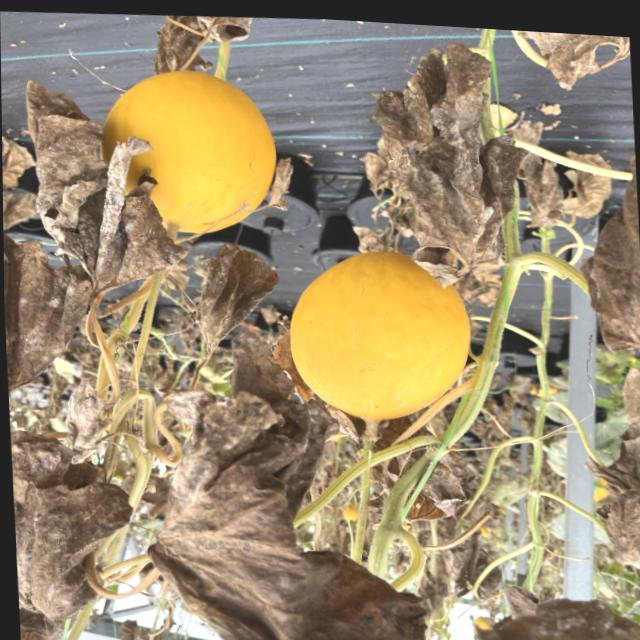bacterial wilt: (166, 472, 420, 640), (147, 376, 335, 598), (10, 435, 130, 618), (365, 51, 499, 189), (3, 236, 99, 419), (11, 82, 117, 245), (91, 138, 194, 304), (394, 169, 521, 283), (573, 199, 640, 363), (182, 256, 269, 357), (475, 594, 640, 640), (522, 31, 631, 90), (57, 374, 121, 457), (413, 467, 483, 529), (608, 450, 640, 575), (517, 162, 568, 231), (167, 379, 214, 437), (606, 373, 640, 448), (19, 609, 89, 640), (117, 613, 185, 640)
